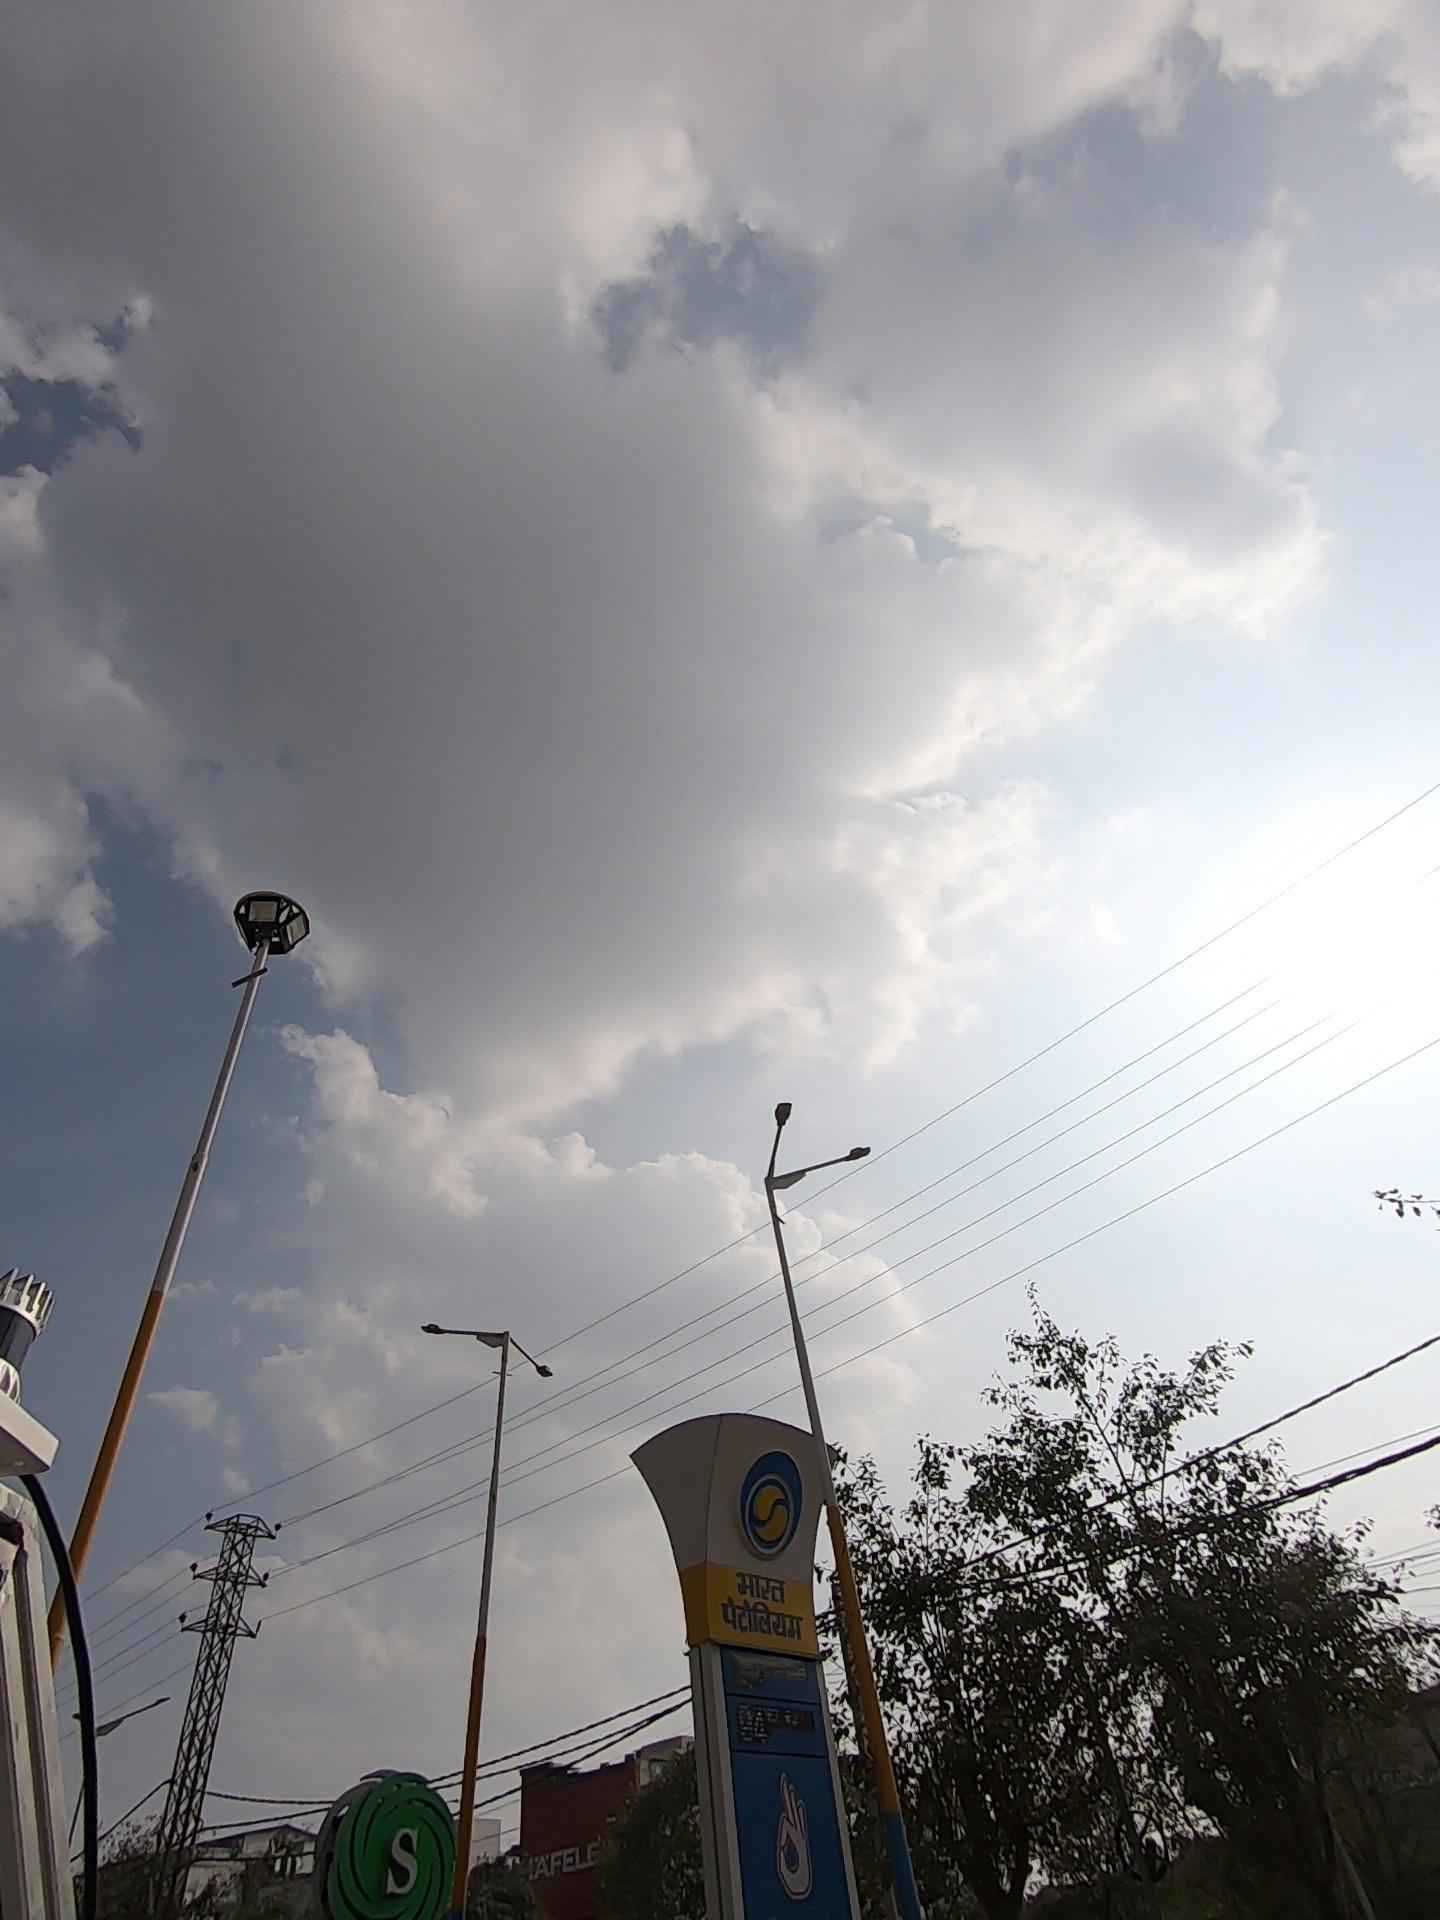off: (154, 816, 419, 1023), (681, 1070, 932, 1256), (386, 1246, 623, 1427)
